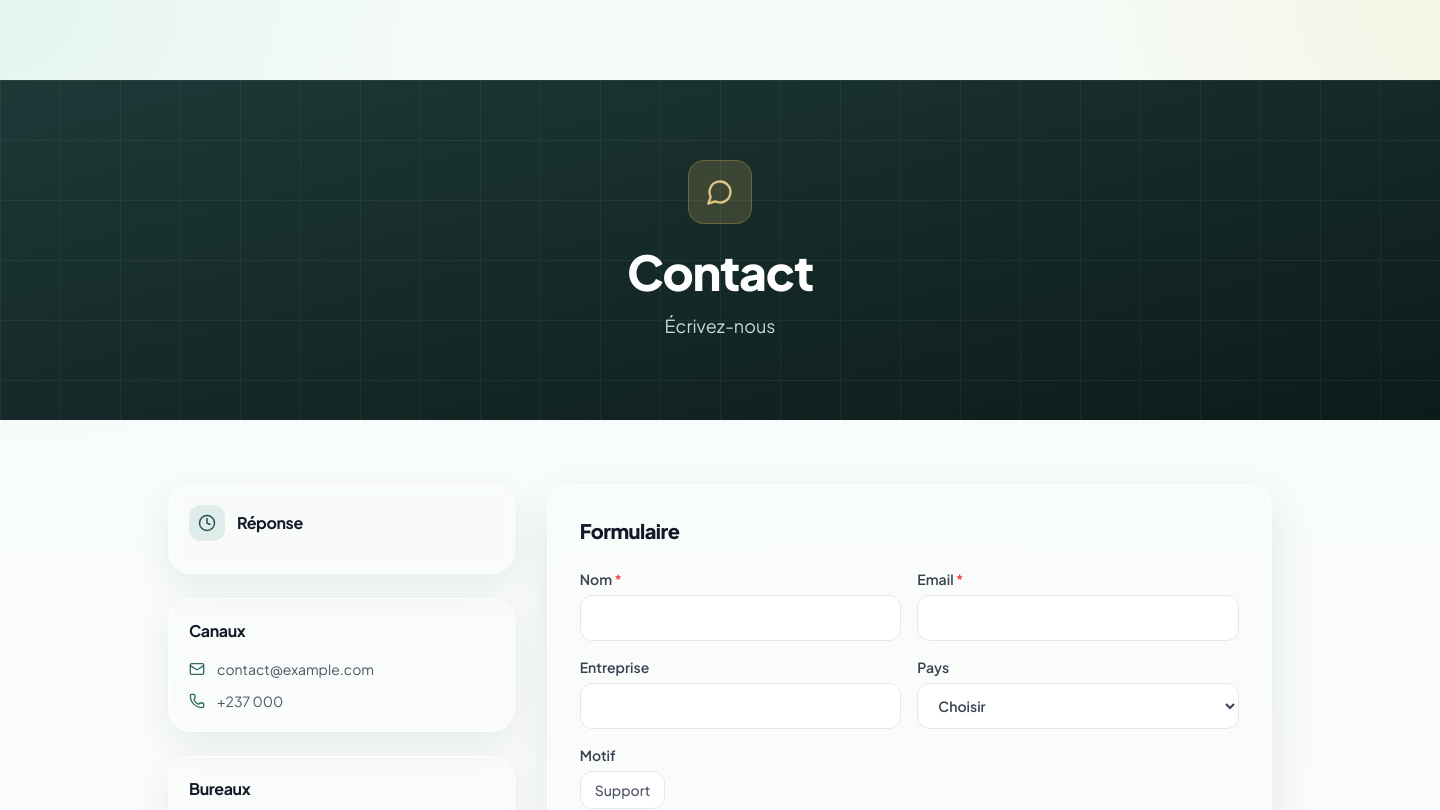
ContactPage secure submission › uses submit-contact instead of inserting into a public table
The width and height of the screenshot is (1440, 810).
Type "Ada Test" into the field labelled "Nom *" at (741, 618), box [580,595,901,641]
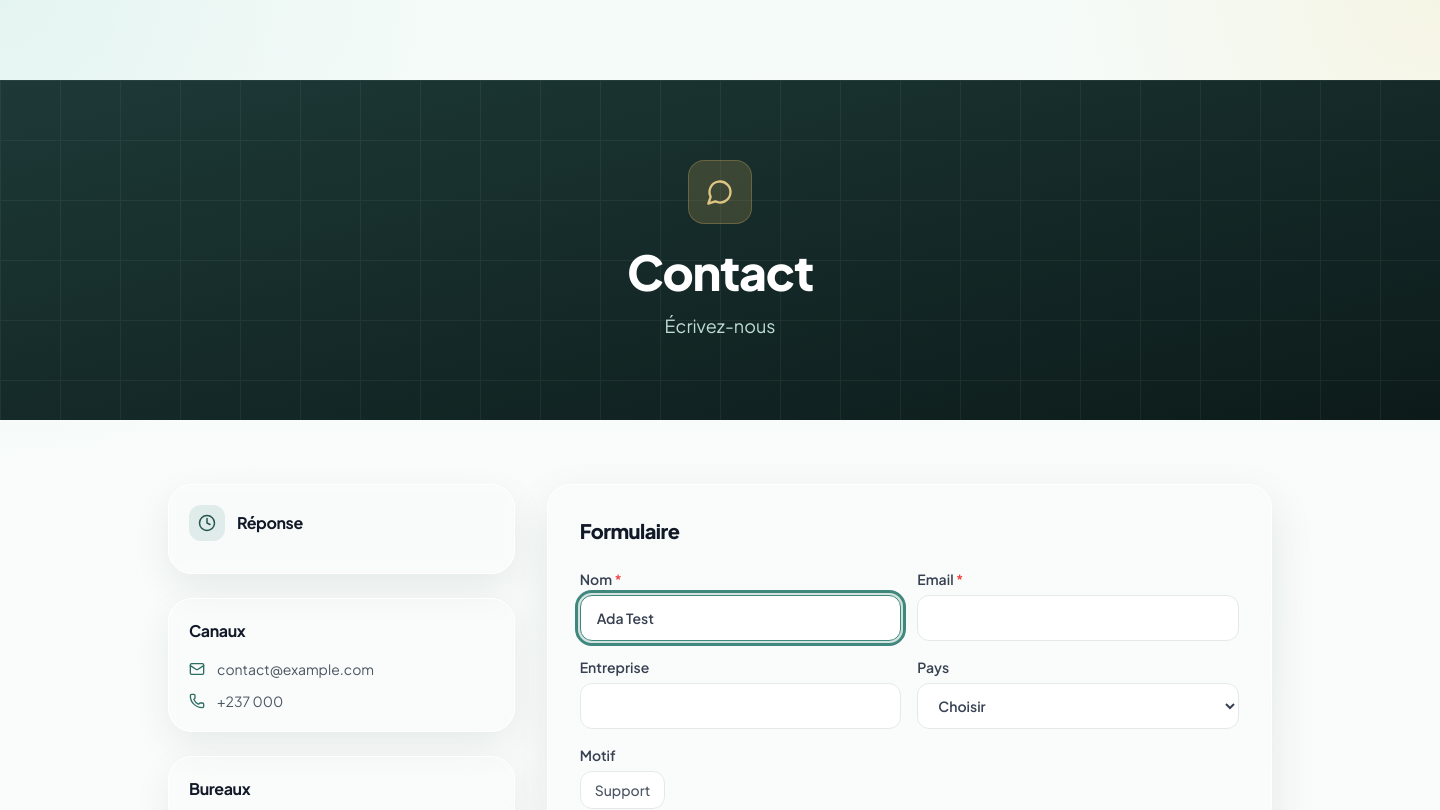
Type "ada@example.com" into the field labelled "Email *" at (1078, 618), box [917,595,1239,641]
(page scrolled)
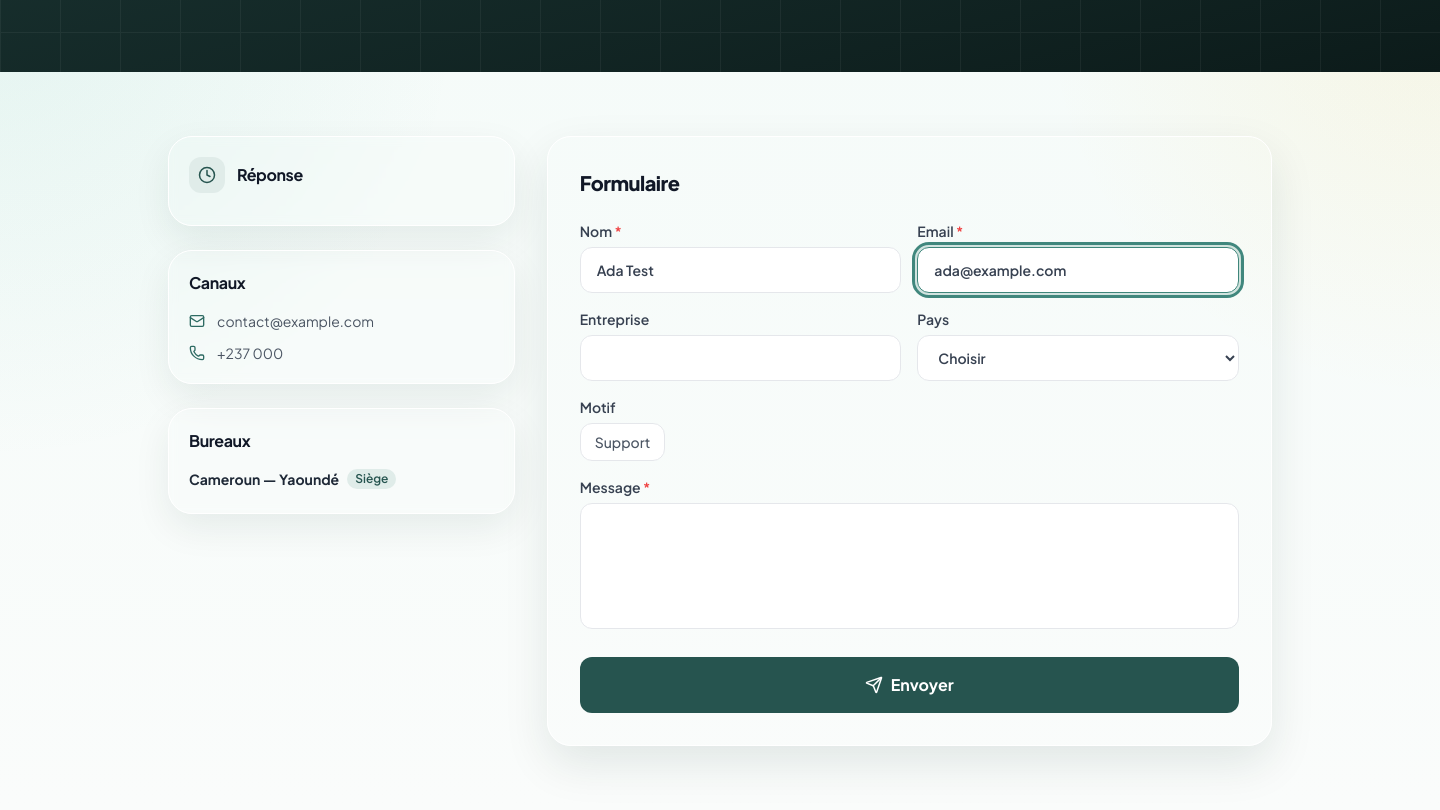
Type "Une demande suffisamment longue." into the text box labelled "Message *" at (909, 566), box [580,503,1239,629]
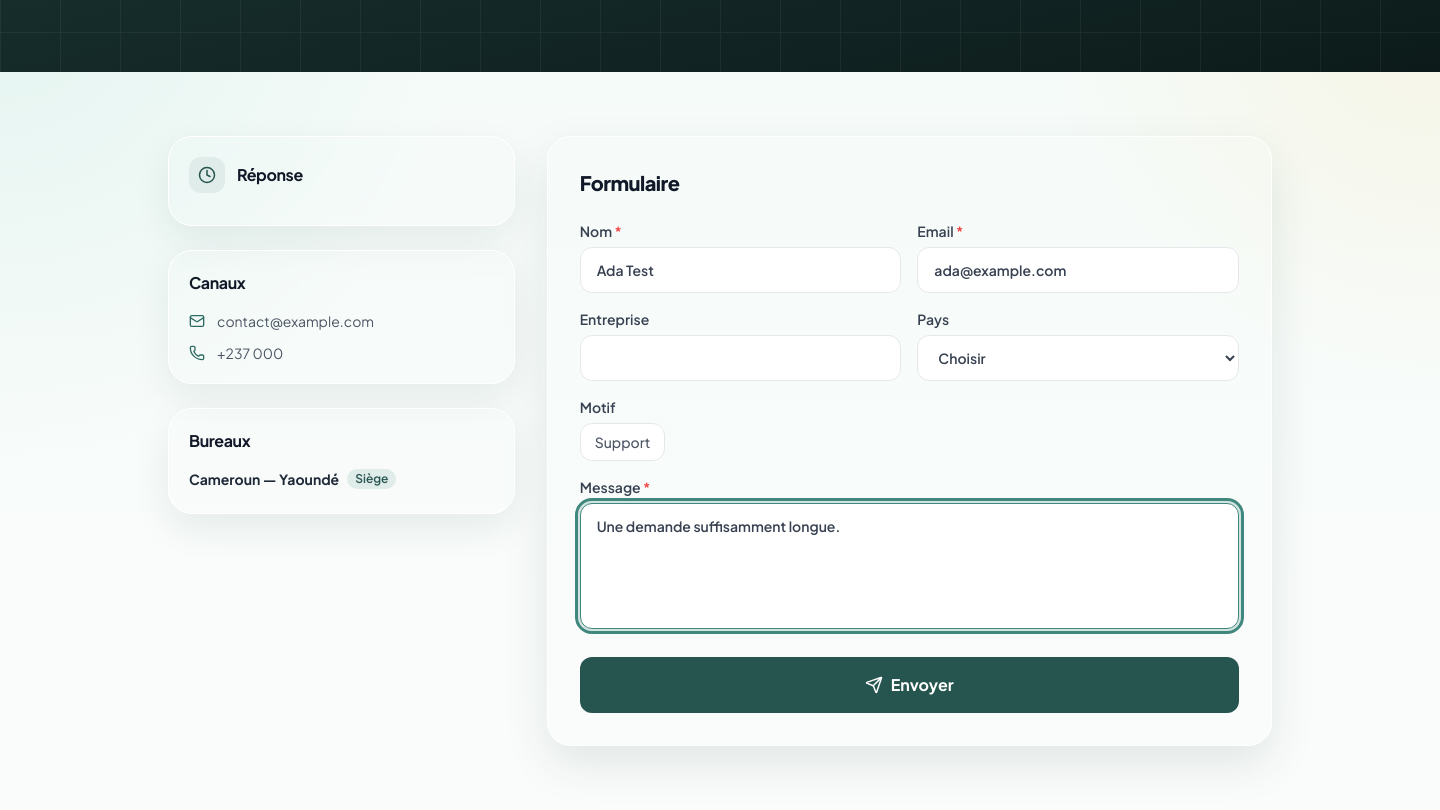
Click the button "Envoyer" at (909, 685), box [580,657,1239,713]
(page scrolled)
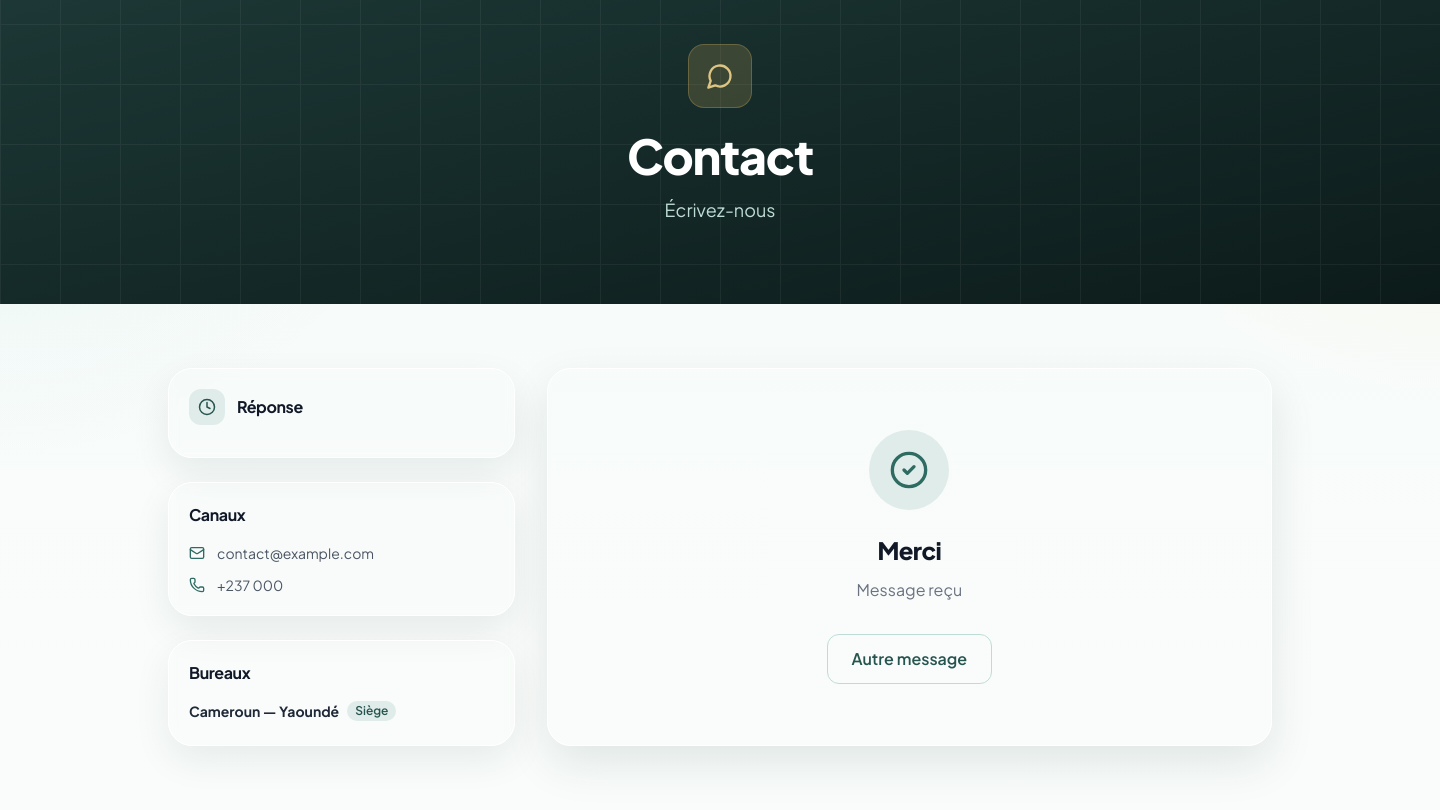
Now the heading "Merci" is shown, box [878,534,941,566]
